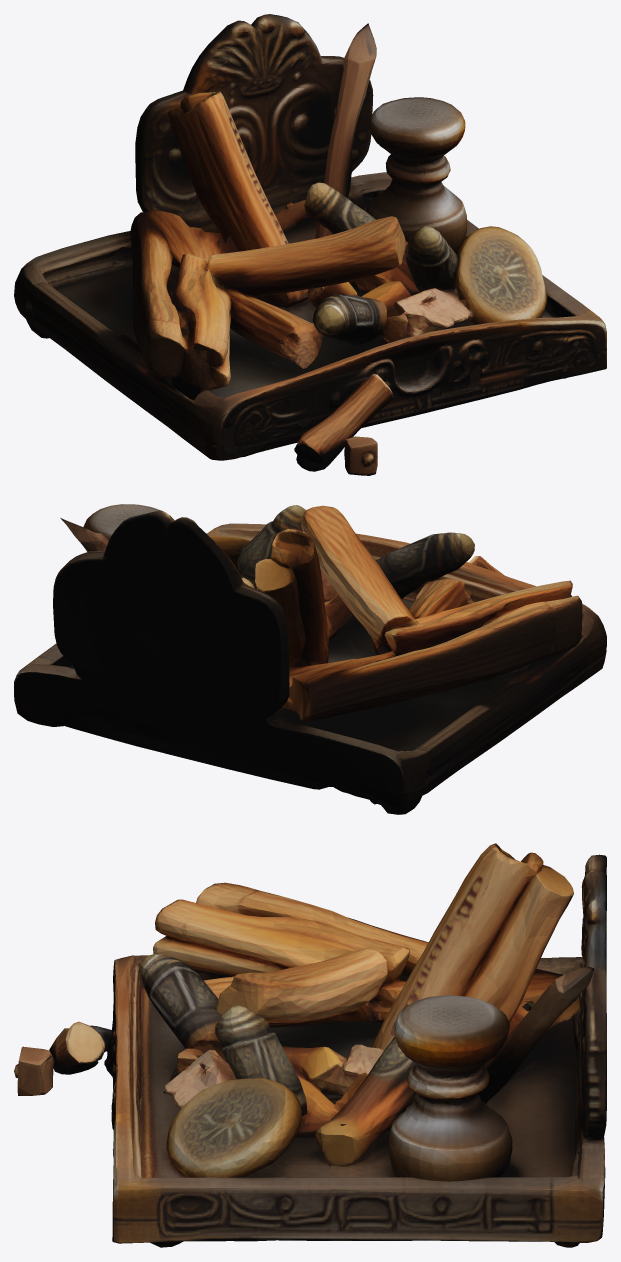
The model's file is wooden-firestarter-kit-vintage.jpeg.glb.
3 views of the same model, one above another, from view 1: azimuth 30°, elevation 25°; view 2: azimuth 150°, elevation 25°; view 3: azimuth 270°, elevation 25° (orthographic). The views are drawn at different scales.
Visible parts, largest first — view 1: world; view 2: world; view 3: world.
Boxes of the visible parts, <box> form: world: <box>14,14,606,475</box>; world: <box>14,504,606,814</box>; world: <box>14,843,606,1247</box>.
Bounding box in the file's own units: 0.9729 × 0.5696 × 0.9978.
1 material, 1 textured.
